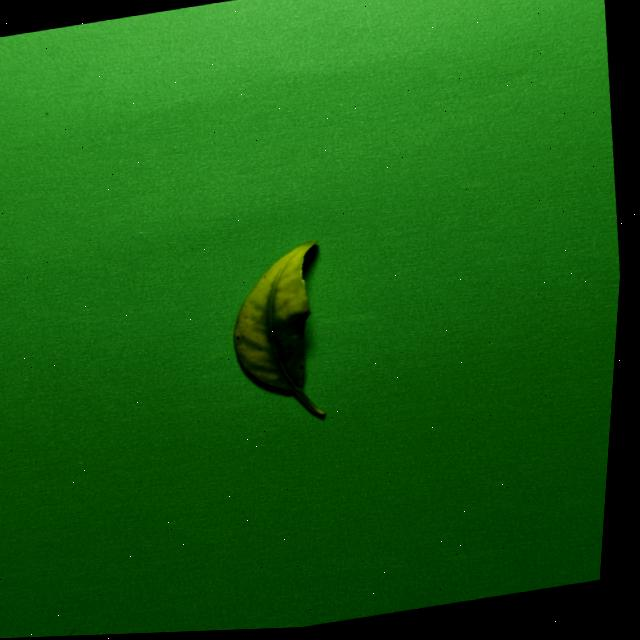greening: (233, 241, 324, 417)
